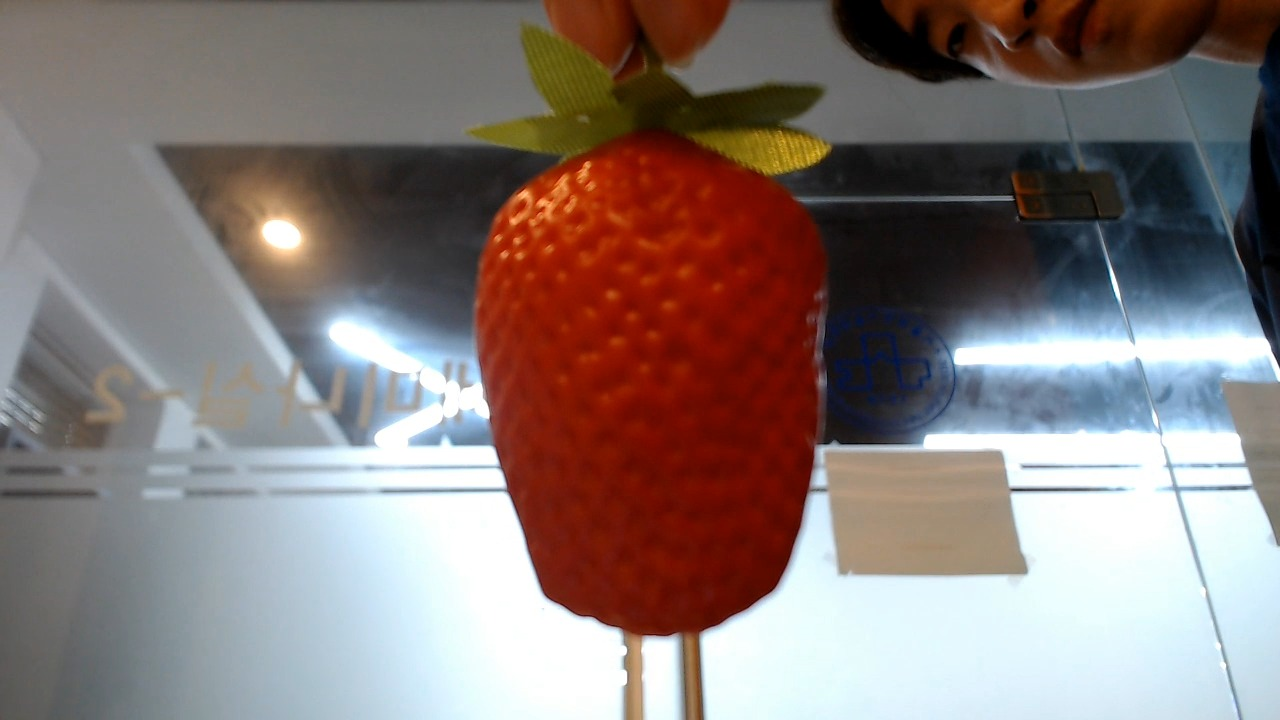strawberry: (473, 32, 827, 634)
